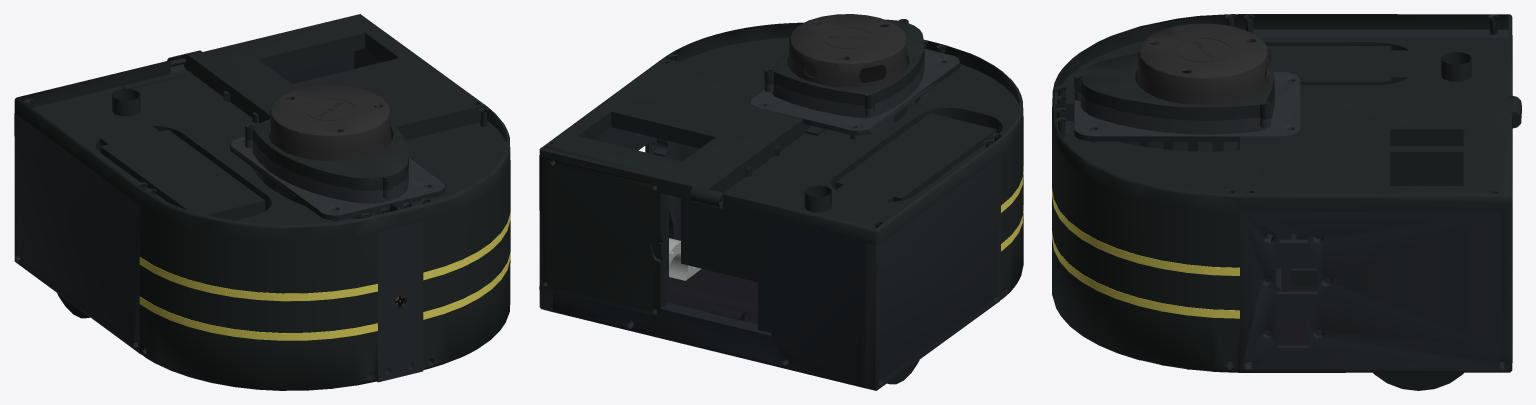
File: robot.glb
3 views of the same model, side by side, from view 1: azimuth 30°, elevation 25°; view 2: azimuth 150°, elevation 25°; view 3: azimuth 270°, elevation 25° (orthographic). The views are drawn at different scales.
Visible parts, largest first — view 1: cubierta__2, cubierta__1, laser_cabezal__32, cubierta__franjas, cubierta__3, cubierta__0; view 2: cubierta__2, cubierta__0, cubierta__1, laser_cabezal__32, cubierta__3, traccion__36, traccion__37, laser_cabezal__33; view 3: cubierta__2, cubierta__1, laser_cabezal__32, cubierta__3, cubierta__franjas, traccion__36, traccion__34.
Boxes of the visible parts, box(x1,y1,x2,y2) form: cubierta__2: box(14, 14, 510, 390); cubierta__1: box(14, 49, 423, 382); laser_cabezal__32: box(269, 85, 391, 160); cubierta__franjas: box(139, 212, 510, 340); cubierta__3: box(230, 136, 444, 218); cubierta__0: box(274, 51, 354, 83); cubierta__2: box(539, 19, 1023, 387); cubierta__0: box(553, 194, 863, 387); cubierta__1: box(539, 127, 1000, 390); laser_cabezal__32: box(788, 14, 907, 87); cubierta__3: box(750, 48, 959, 132); traccion__36: box(668, 205, 757, 324); traccion__37: box(669, 238, 701, 280); laser_cabezal__33: box(788, 64, 907, 83); cubierta__2: box(1052, 14, 1521, 372); cubierta__1: box(1052, 29, 1512, 372); laser_cabezal__32: box(1137, 23, 1268, 104); cubierta__3: box(1074, 72, 1300, 151); cubierta__franjas: box(1052, 188, 1239, 318); traccion__36: box(1263, 234, 1330, 345); traccion__34: box(1373, 372, 1463, 390).
Bounding box in the file's own units: 0.23 × 0.1515 × 0.2499.
